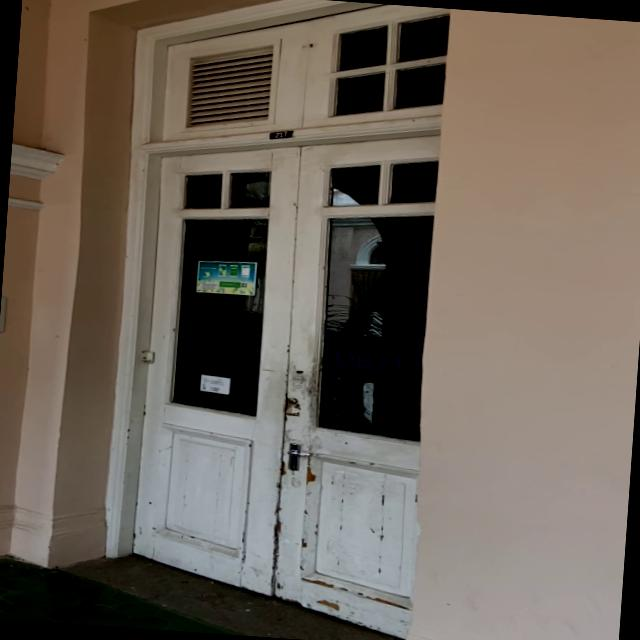room217: (267, 128, 295, 141)
room217Window: (325, 347, 421, 378)
